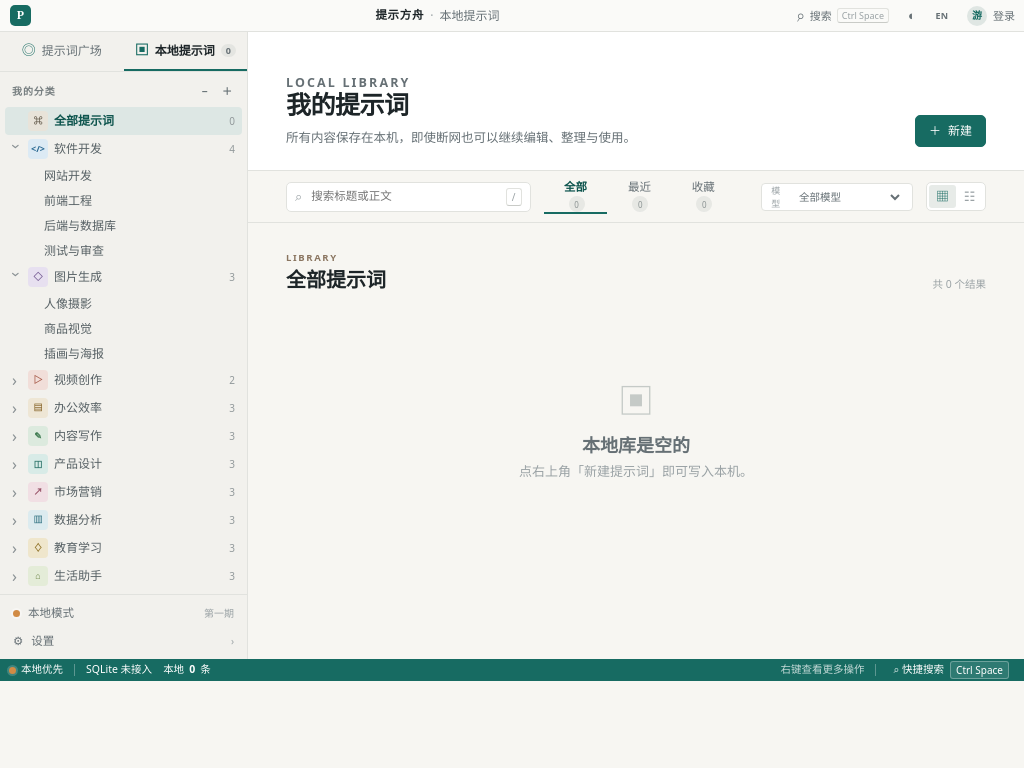
Test case: WorkbenchShell › creates a collection in the content grid
Click the button "＋ 新建" at (950, 131), box 915,115 -> 986,147
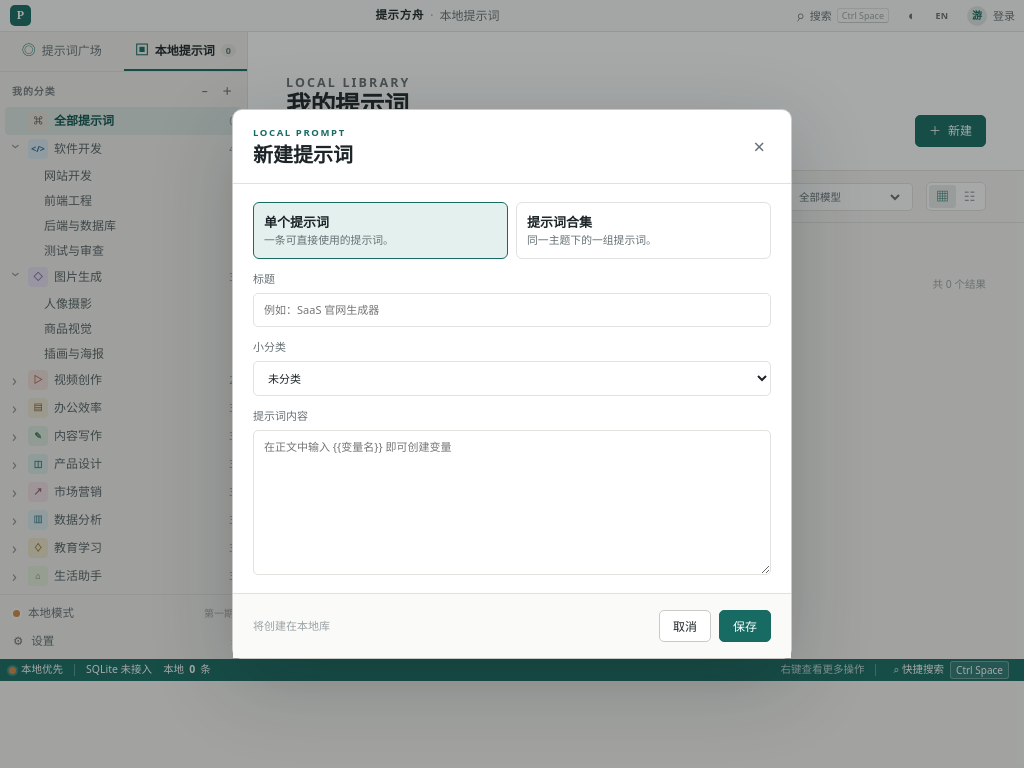
Click the button with class "create-type" showing "提示词合集 同一主题下的一组提示词。" at (644, 231), box 516,202 -> 771,259
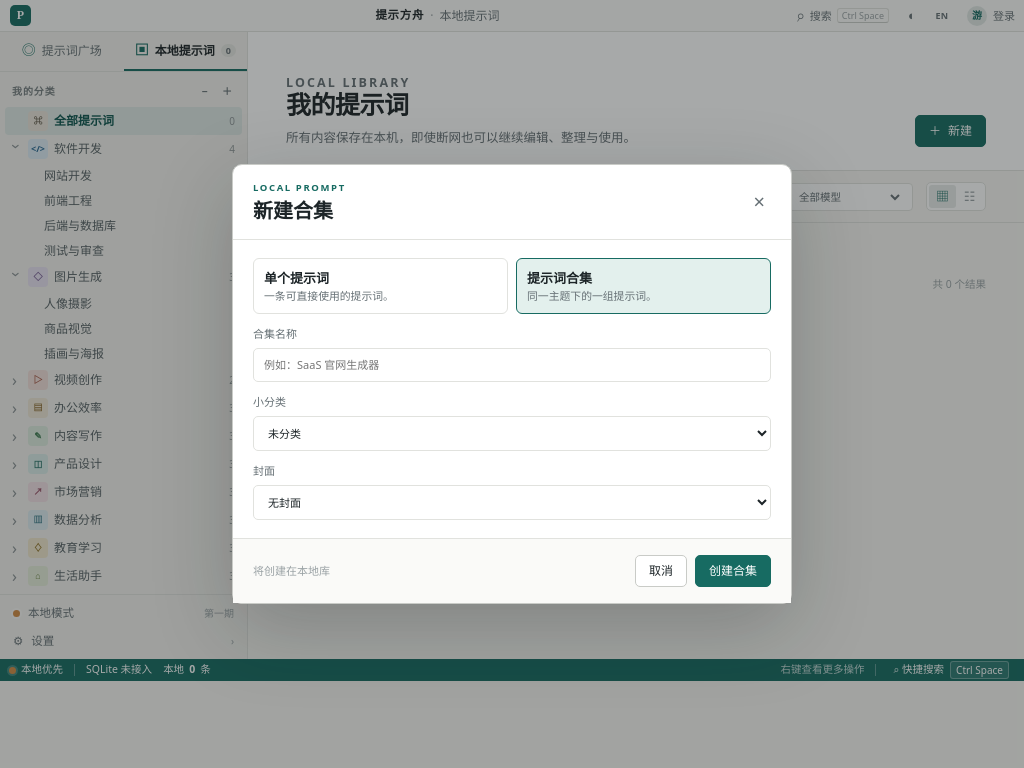
Type "人像灵感" into the field labelled "合集名称" at (512, 365), box 253,348 -> 771,382
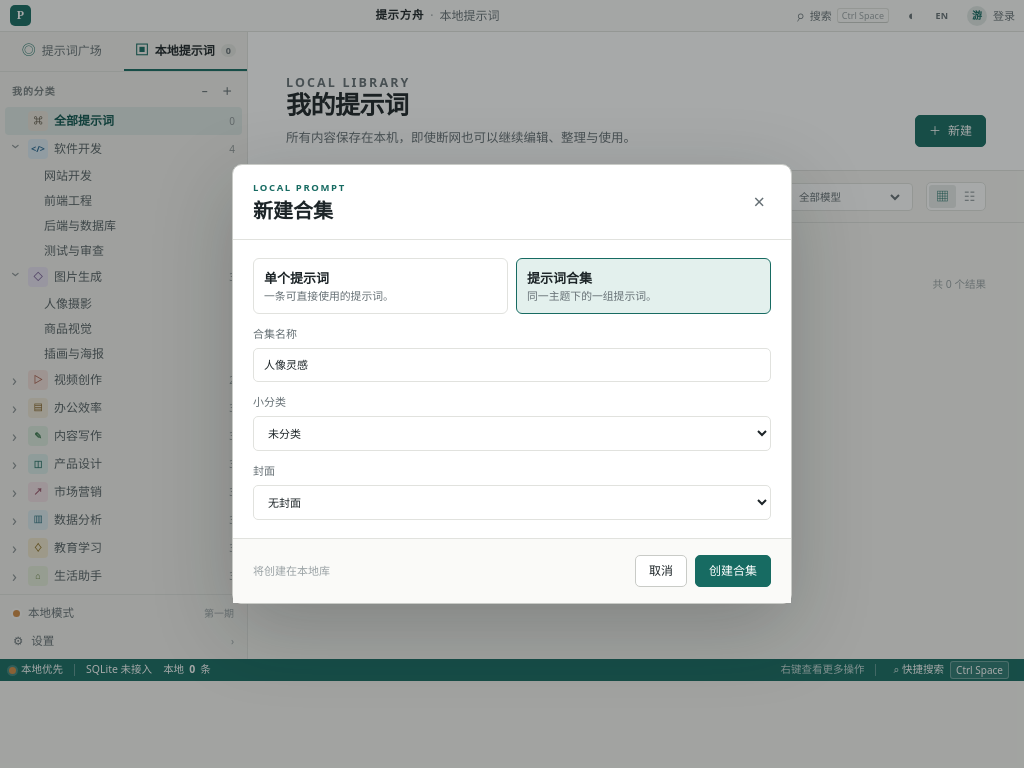
Select "九宫格" in the dropdown labelled "封面" at (512, 502), box 253,485 -> 771,520
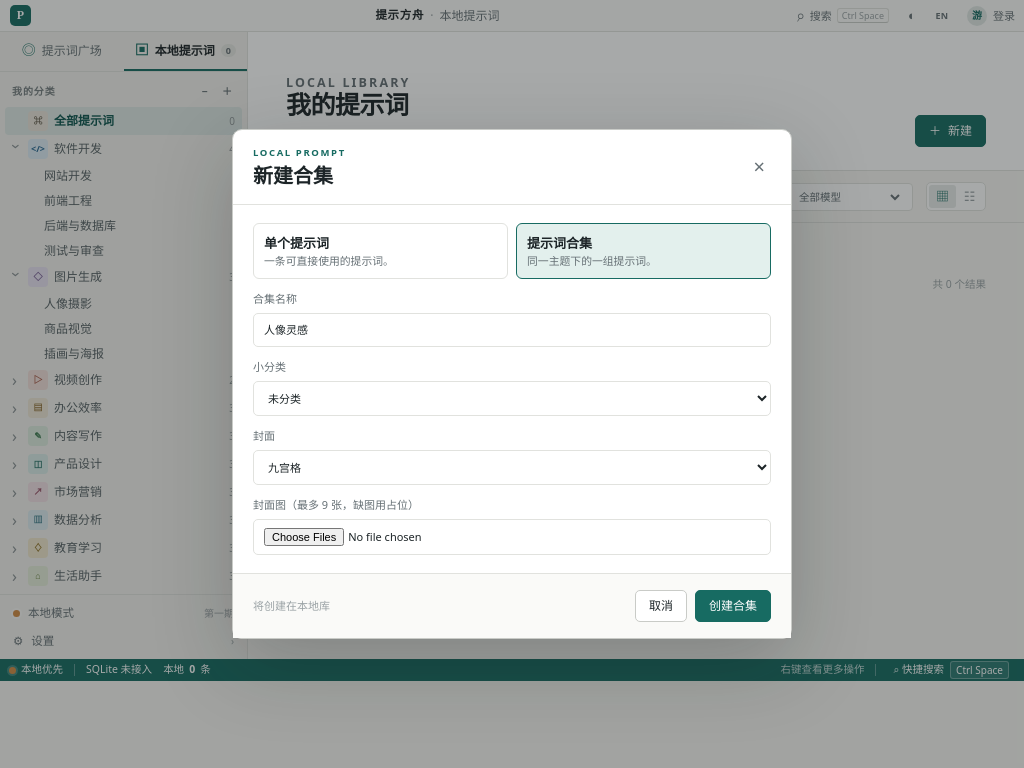
Now the file field with test id "cover-files" is shown, box 253,519 -> 771,555
Click the button "创建合集" at (733, 606), box 695,590 -> 771,622
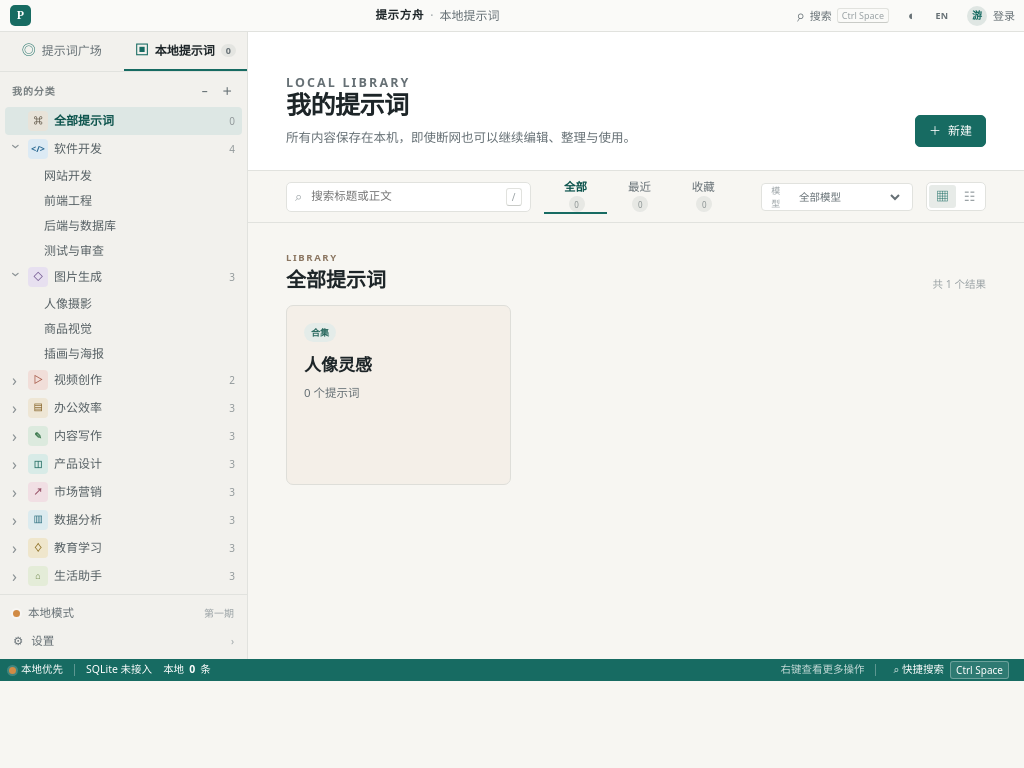
Now the text "合集" is shown, box 304,323 -> 336,342
Now the text "人像灵感" is shown, box 304,356 -> 372,375
